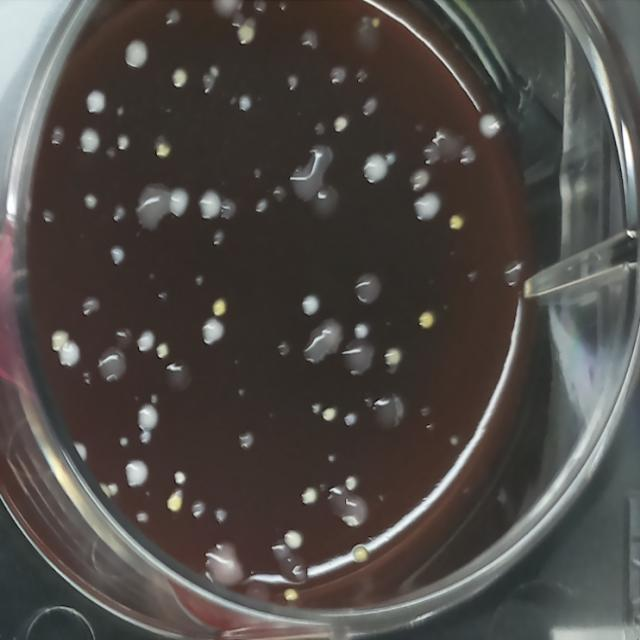Staphylococcus: (122, 37, 152, 72), (475, 109, 504, 144), (197, 186, 223, 222), (124, 458, 150, 490), (56, 338, 82, 369), (201, 317, 227, 346), (83, 88, 108, 117), (78, 126, 102, 156), (282, 526, 306, 554), (170, 186, 191, 218), (135, 327, 158, 356), (149, 134, 172, 163), (164, 486, 185, 516), (299, 292, 322, 319), (169, 65, 191, 93), (350, 541, 372, 567), (416, 308, 437, 334), (236, 20, 257, 46), (382, 346, 403, 370), (208, 296, 229, 320), (50, 328, 69, 354), (300, 484, 319, 508), (236, 92, 255, 115), (447, 212, 465, 233), (332, 114, 350, 135), (352, 321, 369, 342), (154, 341, 171, 361), (320, 406, 337, 425), (343, 472, 358, 493), (342, 410, 359, 428), (172, 468, 188, 486), (108, 480, 120, 498)
Vibrio: (371, 391, 406, 434), (312, 180, 344, 222), (161, 358, 193, 398)
